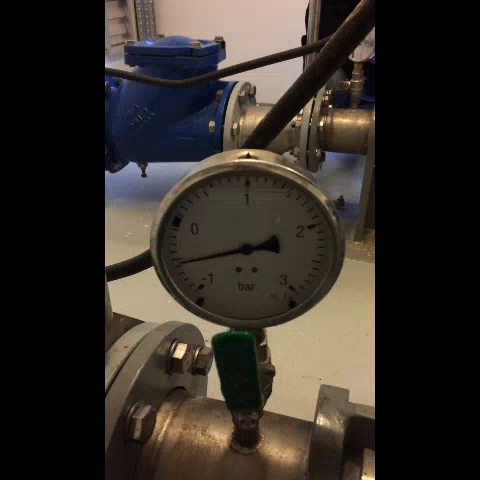Round_Meter: (157, 167, 341, 325)
